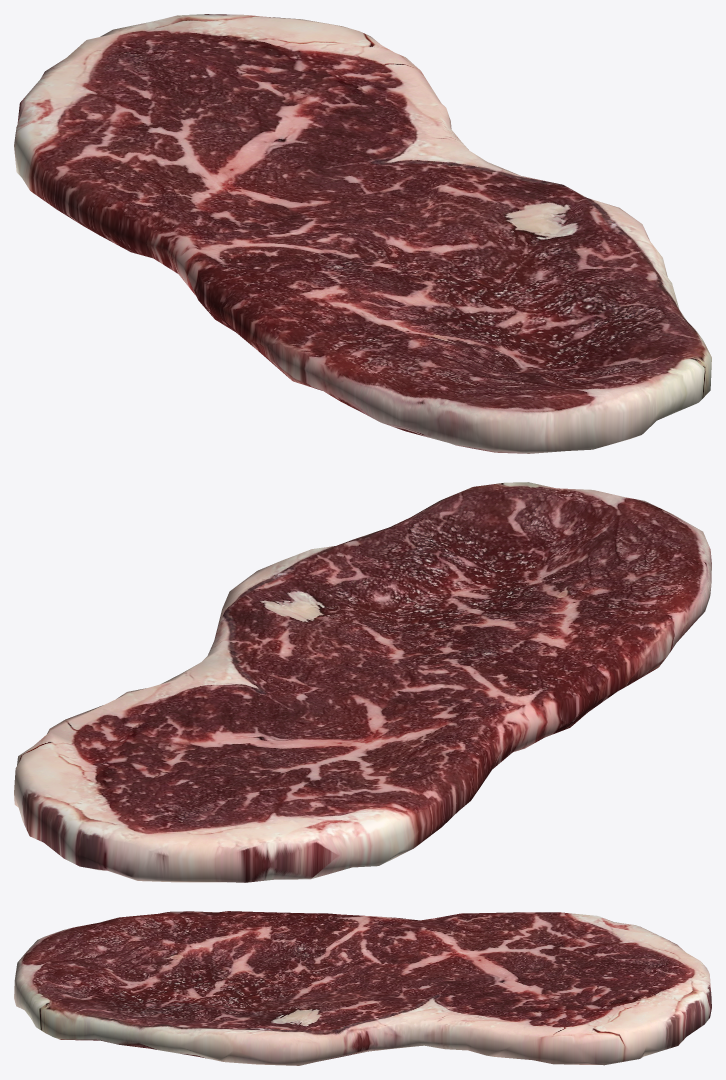
Rendered from BeafSteak.fbx.
3 views of the same model, one above another, from view 1: azimuth 30°, elevation 25°; view 2: azimuth 150°, elevation 25°; view 3: azimuth 270°, elevation 25° (orthographic). The views are drawn at different scales.
Visible parts, largest first — view 1: Plane; view 2: Plane; view 3: Plane.
Part boxes in pixels (x1,y1,x2,y2): Plane: [14, 14, 711, 453]; Plane: [14, 482, 711, 882]; Plane: [14, 911, 711, 1065].
Size of the model in its own units: 177 by 22.83 by 391.
Materials: 1 (1 with a texture image).
